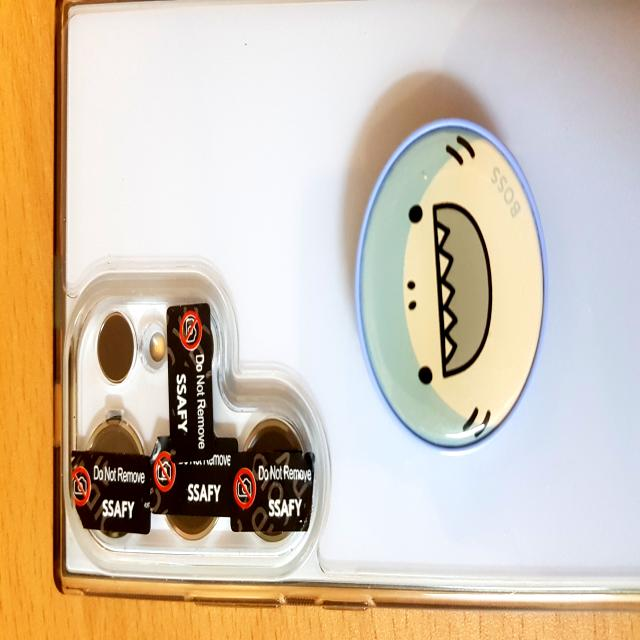phone: (54, 0, 639, 609)
removed_sticker: (232, 453, 314, 530), (72, 454, 128, 536), (169, 306, 213, 386)
sticker: (156, 440, 234, 516)
